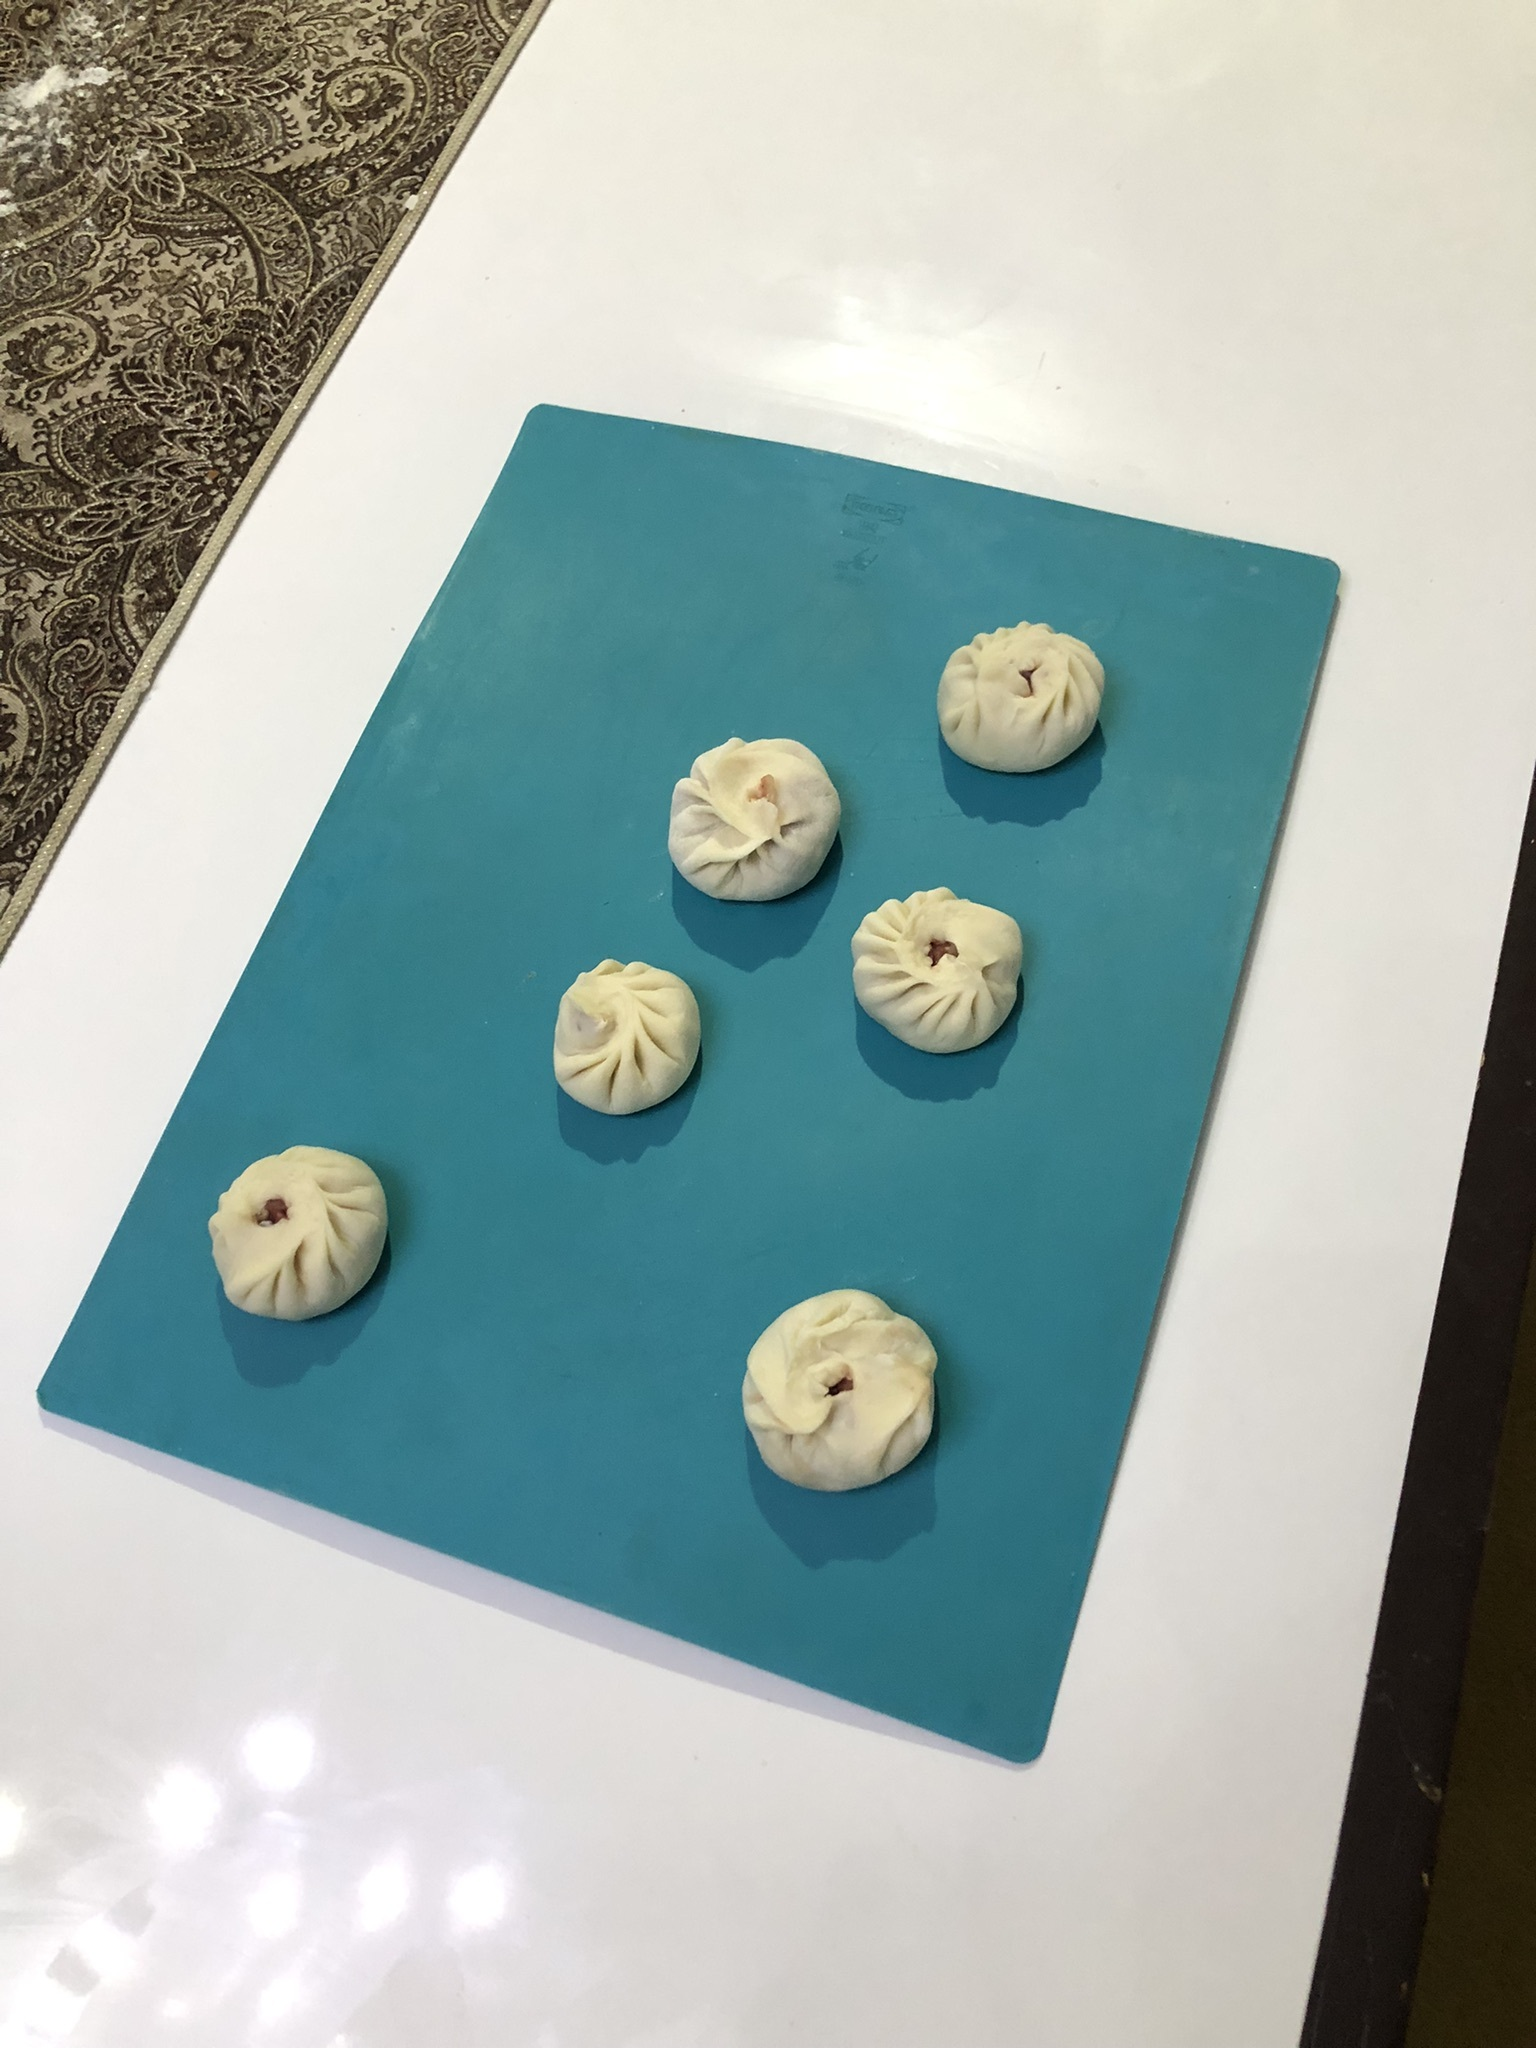buuz: (728, 1277, 962, 1509), (200, 1130, 403, 1335), (842, 884, 1046, 1068), (658, 719, 850, 913), (926, 610, 1112, 790), (536, 947, 715, 1119)
